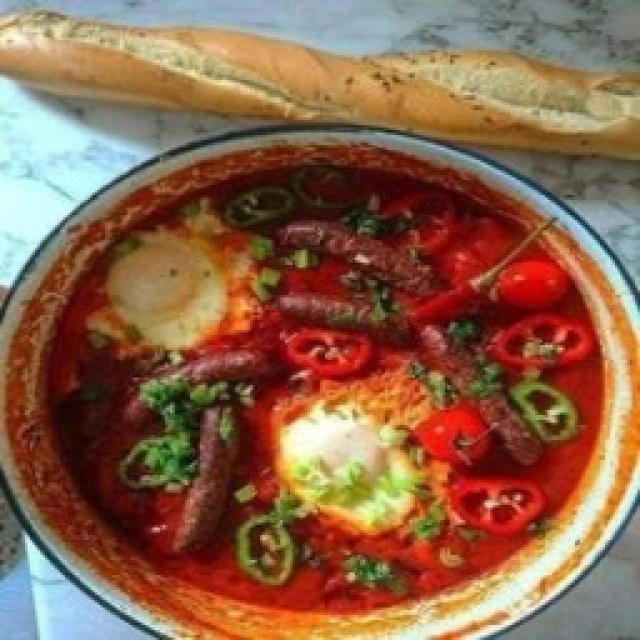Chakchouka: (0, 129, 640, 640)
